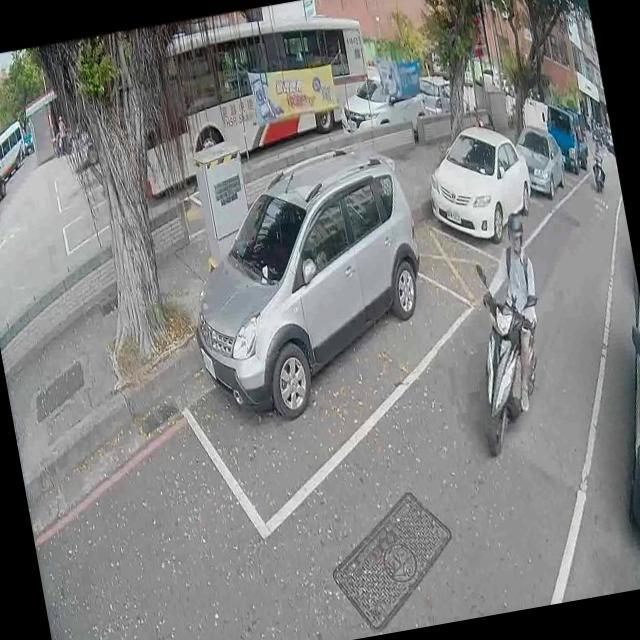person: (463, 205, 558, 418), (585, 136, 606, 184), (51, 108, 70, 156)
